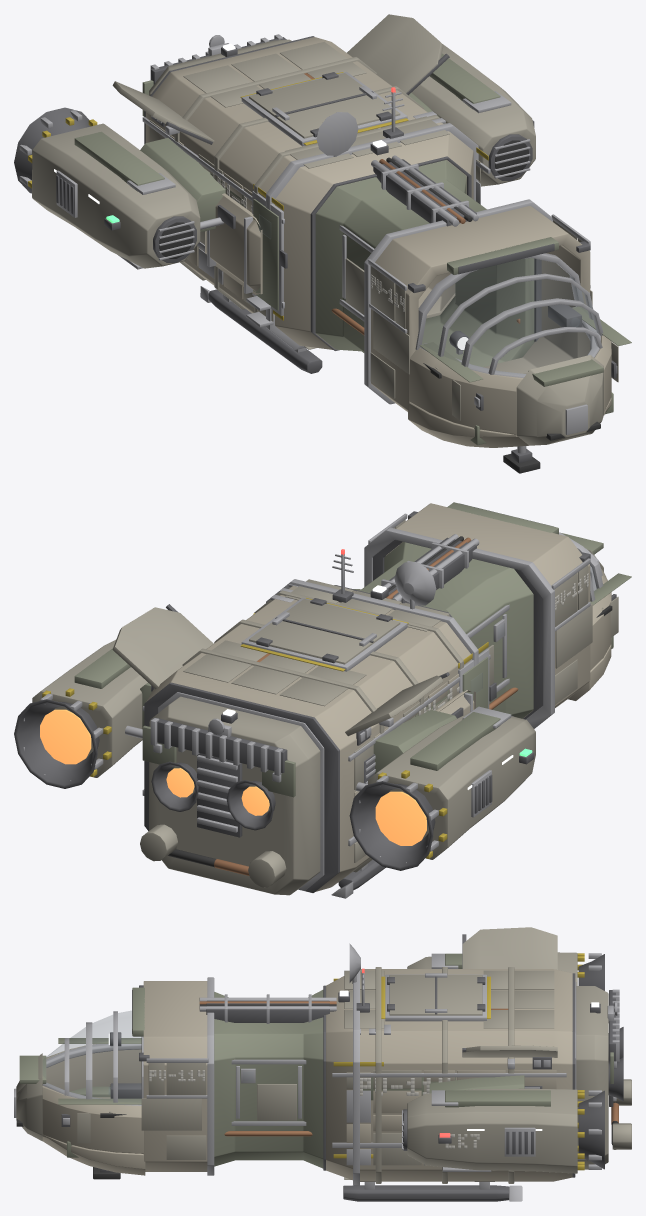
The model's file is ship-exterior.glb.
3 renders of one model, top to bottom at view 1: azimuth 30°, elevation 25°; view 2: azimuth 150°, elevation 25°; view 3: azimuth 270°, elevation 25°, orthographic. The views are drawn at different scales.
Parts seen in each view (by area): view 1: SM_Hull_Body, SM_Hull_Neck, SM_Hull_Head, SM_Canopy_Glass, SM_Nac_Star, SM_Plate_Top, SM_Fore_RailStar, SM_Fore_Nose, SM_Nac_Port, SM_Rad_Port, SM_Hatch_Lid, SM_Plate_HeadStar (+38 smaller); view 2: SM_Hull_Tail, SM_Hull_Body, SM_Hull_Neck, SM_Nac_Star, SM_Plate_Top, SM_Hull_Head, SM_Nac_Port, SM_Hatch_Lid, SM_Hull_StepTail, SM_Rad_Port, SM_Hull_CollarHead, SM_Nac_Star_Bell (+40 smaller); view 3: SM_Hull_Body, SM_Hull_Neck, SM_Nac_Port, SM_Hull_Head, SM_Canopy_Glass, SM_Plate_Top, SM_Plate_HeadPort, SM_Fore_RailPort, SM_Hull_Tail, SM_Rad_Star, SM_Hatch_Lid, SM_Skid_Port (+43 smaller).
Part boxes in pixels (left/top/right/bottom): SM_Hull_Body: left=145, top=37, right=473, bottom=349; SM_Hull_Neck: left=315, top=160, right=534, bottom=366; SM_Hull_Head: left=371, top=206, right=590, bottom=411; SM_Canopy_Glass: left=422, top=258, right=598, bottom=375; SM_Nac_Star: left=32, top=123, right=200, bottom=268; SM_Plate_Top: left=183, top=41, right=449, bottom=168; SM_Fore_RailStar: left=409, top=347, right=523, bottom=434; SM_Fore_Nose: left=516, top=355, right=603, bottom=445; SM_Nac_Port: left=412, top=44, right=535, bottom=186; SM_Rad_Port: left=347, top=14, right=443, bottom=93; SM_Hatch_Lid: left=249, top=73, right=400, bottom=138; SM_Plate_HeadStar: left=370, top=266, right=409, bottom=398; SM_Hull_Tail: left=149, top=696, right=320, bottom=895; SM_Hull_Body: left=146, top=586, right=471, bottom=891; SM_Hull_Neck: left=353, top=542, right=533, bottom=718; SM_Nac_Star: left=368, top=711, right=535, bottom=859; SM_Plate_Top: left=183, top=579, right=449, bottom=706; SM_Hull_Head: left=386, top=503, right=590, bottom=718; SM_Nac_Port: left=32, top=639, right=147, bottom=777; SM_Hatch_Lid: left=249, top=599, right=400, bottom=664; SM_Hull_StepTail: left=144, top=682, right=339, bottom=892; SM_Rad_Port: left=112, top=607, right=213, bottom=689; SM_Hull_CollarHead: left=364, top=527, right=554, bottom=728; SM_Nac_Star_Bell: left=349, top=781, right=435, bottom=870; SM_Hull_Body: left=326, top=969, right=572, bottom=1181; SM_Hull_Neck: left=214, top=990, right=323, bottom=1168; SM_Nac_Port: left=407, top=1088, right=577, bottom=1173; SM_Hull_Head: left=143, top=981, right=207, bottom=1171; SM_Canopy_Glass: left=43, top=1011, right=141, bottom=1102; SM_Plate_Top: left=344, top=970, right=554, bottom=1028; SM_Plate_HeadPort: left=141, top=1063, right=206, bottom=1159; SM_Fore_RailPort: left=42, top=1086, right=143, bottom=1153; SM_Hull_Tail: left=576, top=986, right=608, bottom=1169; SM_Rad_Star: left=462, top=927, right=557, bottom=969; SM_Hatch_Lid: left=389, top=975, right=482, bottom=1015; SM_Skid_Port: left=343, top=1185, right=508, bottom=1201.
Size of the model in its own units: 9.22 by 5.4 by 13.98.
